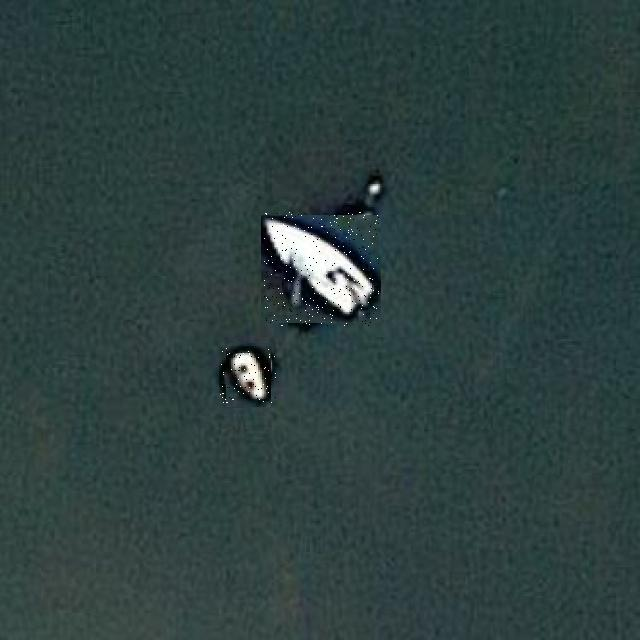boat: (264, 212, 379, 326), (220, 348, 276, 403)
